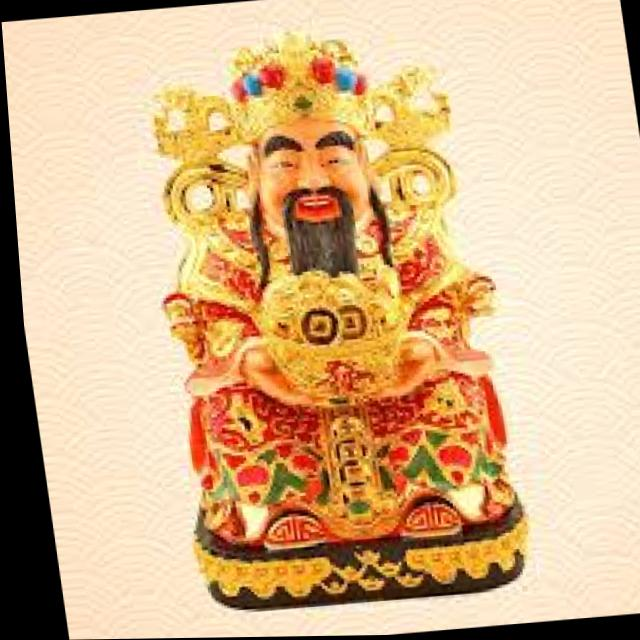Cai shen: (134, 20, 492, 477)
